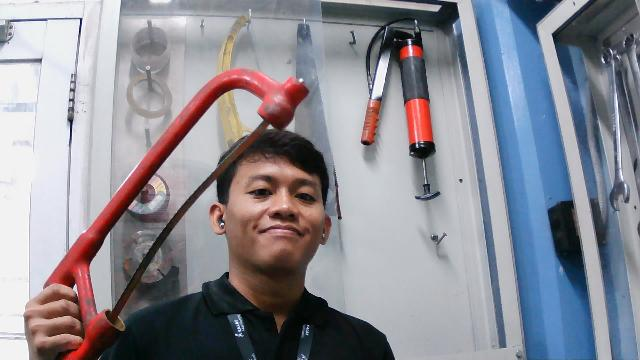gergaji_besi: (19, 64, 312, 360)
